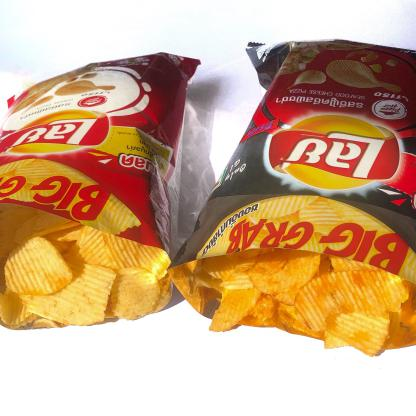potatochip: (170, 34, 415, 356), (0, 49, 197, 338)
